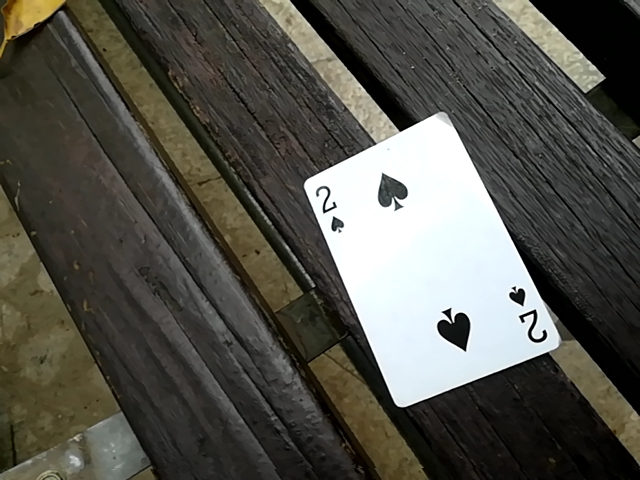ht 2: (298, 110, 556, 410)
